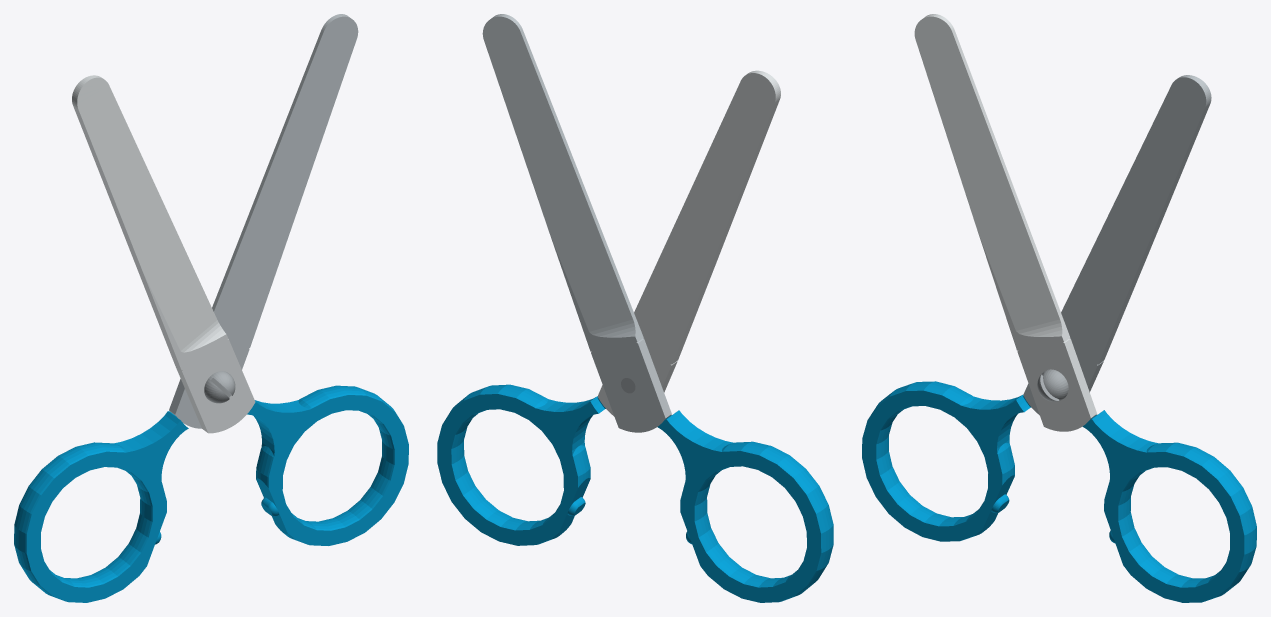
File: scissors.obj
3 renders of one model, left to right at view 1: azimuth 30°, elevation 25°; view 2: azimuth 150°, elevation 25°; view 3: azimuth 330°, elevation 25°, orthographic.
Parts seen in each view (by area): view 1: group_0_40919, group_0_14541540, group_0_12568524, group_0_10988977; view 2: group_0_40919, group_0_12568524, group_0_14541540; view 3: group_0_40919, group_0_14541540, group_0_12568524, group_0_10988977.
Part boxes in pixels (<box>): group_0_40919: <box>14,385,408,602</box>; group_0_14541540: <box>72,75,255,433</box>; group_0_12568524: <box>169,14,358,428</box>; group_0_10988977: <box>204,371,235,403</box>; group_0_40919: <box>437,384,833,602</box>; group_0_12568524: <box>482,14,671,432</box>; group_0_14541540: <box>597,70,780,416</box>; group_0_40919: <box>862,381,1256,602</box>; group_0_14541540: <box>914,14,1096,431</box>; group_0_12568524: <box>1023,75,1211,415</box>; group_0_10988977: <box>1037,369,1068,401</box>.
Bounding box in the file's own units: 106 × 138 × 9.96.
